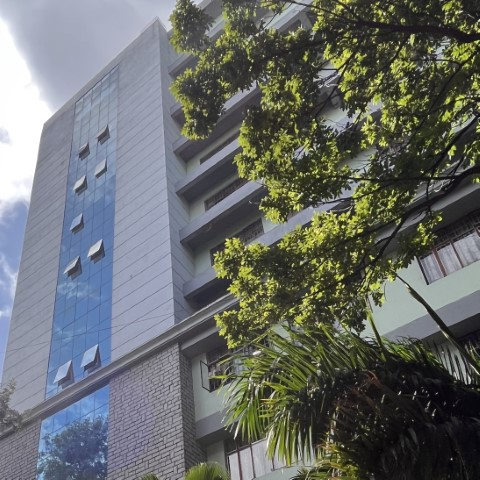Central Block: (26, 12, 254, 480)
